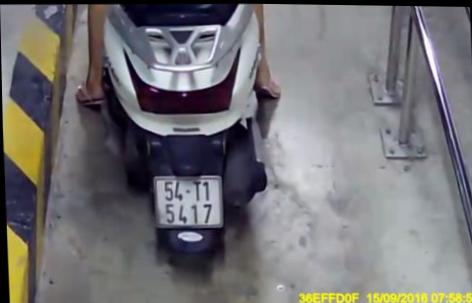LP: (150, 172, 224, 229)
